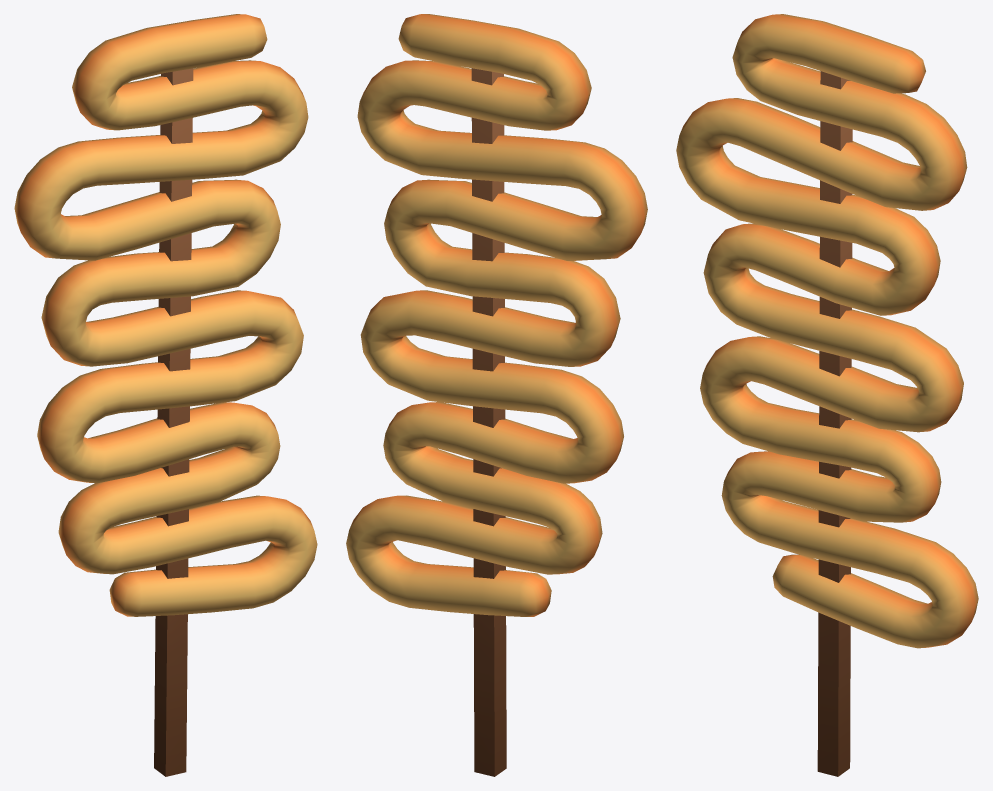
Rendered from lpb_food_isaw.fbx.
3 views of the same model, side by side, from view 1: azimuth 30°, elevation 25°; view 2: azimuth 150°, elevation 25°; view 3: azimuth 330°, elevation 25° (orthographic).
Parts seen in each view (by area): view 1: isaw; view 2: isaw; view 3: isaw.
Part boxes in pixels (x1=…): isaw: x1=14, y1=14, x2=317, y2=776; isaw: x1=346, y1=14, x2=647, y2=776; isaw: x1=676, y1=14, x2=978, y2=776.
Bounding box in the file's own units: 16.71 × 40.32 × 2.59.
